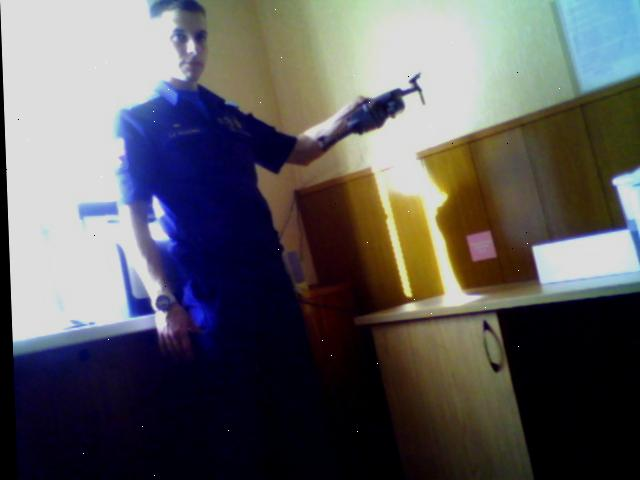drone: (311, 65, 434, 160)
